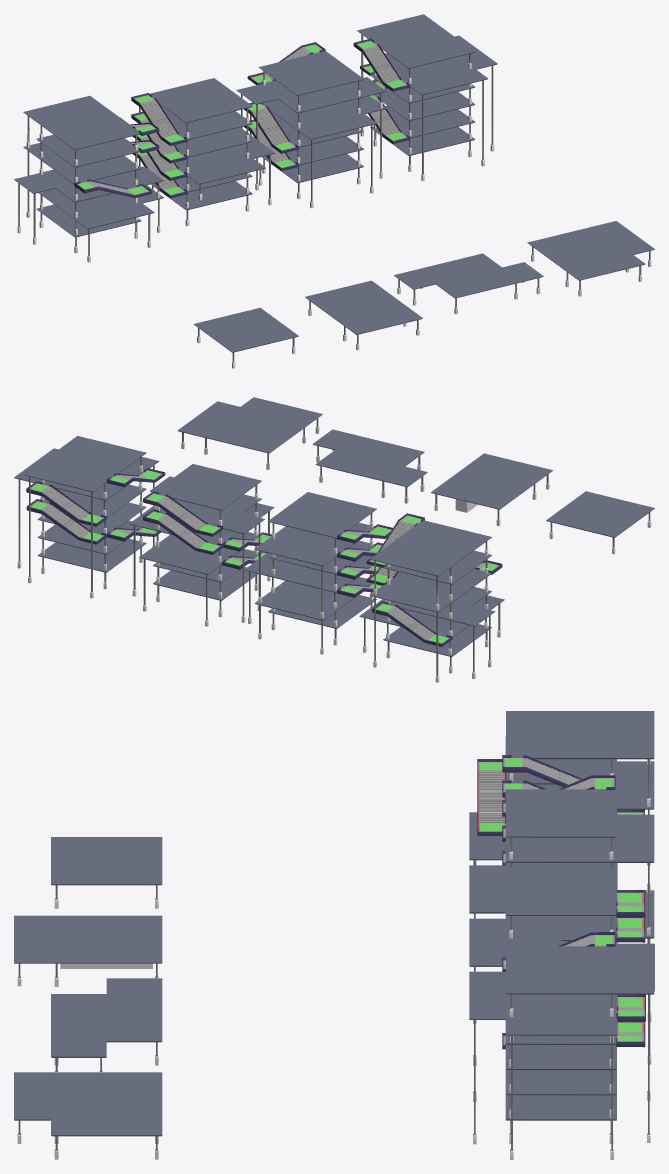
File: Stacks Models.fbx
3 renders of one model, top to bottom at view 1: azimuth 30°, elevation 25°; view 2: azimuth 150°, elevation 25°; view 3: azimuth 270°, elevation 25°, orthographic. The views are drawn at different scales.
Parts seen in each view (by area): view 1: Cube.004, Cube.003, Cube.026, Cube, Cube.018, Cube.009, Cube.010, Cube.012, Cube.002, Cube.028, Cube.027, Cube.011 (+26 smaller); view 2: Cube.004, Cube.018, Cube.003, Cube.026, Cube, Cube.017, Cube.002, Cube.027, Cube.028, Cube.024, Cube.016, Cube.015 (+27 smaller); view 3: Cube.004, Cube.018, Cube, Cube.026, Cube.003, Cube.009, Cube.002, Cube.027, Cube.028, Cube.024, Cube.008, Cube.021 (+16 smaller).
Part boxes in pixels (x1,y1,x2,y2): Cube.004: (527,221,654,296); Cube.003: (394,253,543,314); Cube.026: (23,95,140,165); Cube: (305,280,422,350); Cube.018: (357,14,474,136); Cube.009: (373,35,497,181); Cube.010: (263,96,386,208); Cube.012: (39,185,163,262); Cube.002: (193,307,298,368); Cube.028: (258,51,363,111); Cube.027: (150,78,252,138); Cube.011: (175,127,274,205); Cube.004: (177,397,322,469); Cube.018: (24,436,146,598); Cube.003: (312,429,427,503); Cube.026: (369,520,491,610); Cube: (431,453,552,526); Cube.017: (369,569,491,682); Cube.002: (546,491,654,554); Cube.027: (268,492,376,554); Cube.028: (155,464,261,525); Cube.024: (254,522,374,618); Cube.016: (254,577,373,654); Cube.015: (139,532,258,626); Cube.004: (14,1072,162,1159); Cube.018: (506,946,654,1142); Cube: (14,915,162,986); Cube.026: (506,711,654,806); Cube.003: (51,978,162,1072); Cube.009: (469,971,617,1159); Cube.002: (51,837,162,908); Cube.027: (505,789,616,859); Cube.028: (505,868,616,938); Cube.024: (506,814,654,935); Cube.008: (505,1095,616,1143); Cube.021: (505,1044,616,1092).
Size of the model in its own units: 8008 by 1840 by 6909.
